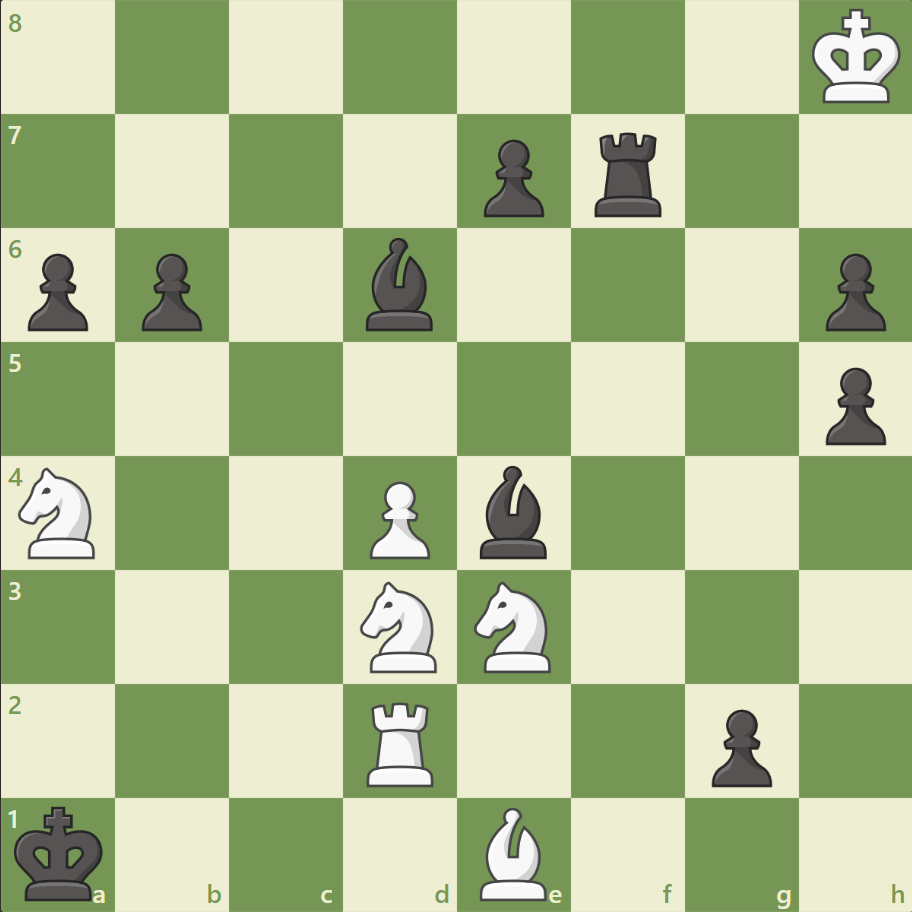B: (471, 801, 555, 904)
K: (806, 4, 906, 112)
N: (351, 575, 449, 677), (11, 461, 108, 564), (465, 575, 562, 677)
P: (361, 473, 435, 564)
R: (360, 693, 442, 790)
b: (358, 233, 442, 336), (471, 460, 555, 563)
k: (11, 798, 111, 906)
p: (474, 132, 549, 223), (20, 246, 95, 337), (133, 246, 208, 337), (701, 700, 776, 791), (815, 246, 889, 337), (815, 359, 889, 450)
r: (587, 125, 670, 222)
